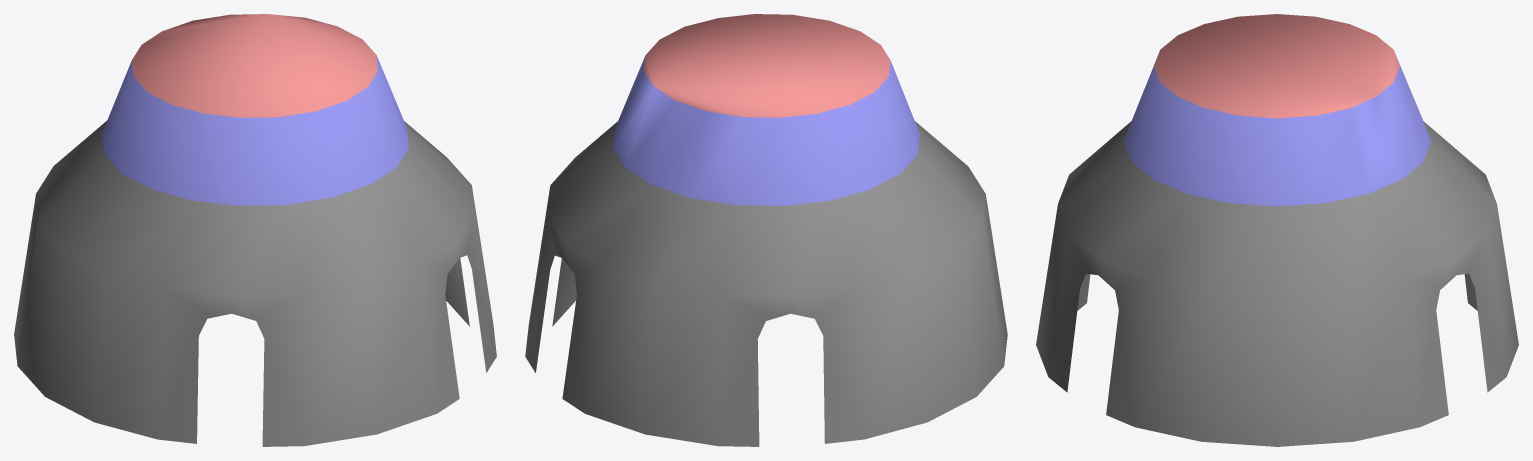
The model's file is Main.gltf.
3 views of the same model, side by side, from view 1: azimuth 30°, elevation 25°; view 2: azimuth 150°, elevation 25°; view 3: azimuth 270°, elevation 25° (orthographic).
Parts seen in each view (by area): view 1: Main; view 2: Main; view 3: Main.
Part boxes in pixels (bbox=[...]): Main: bbox=[14, 14, 496, 446]; Main: bbox=[525, 14, 1007, 446]; Main: bbox=[1036, 14, 1518, 446].
Size of the model in its own units: 11.39 by 7.25 by 11.39.
